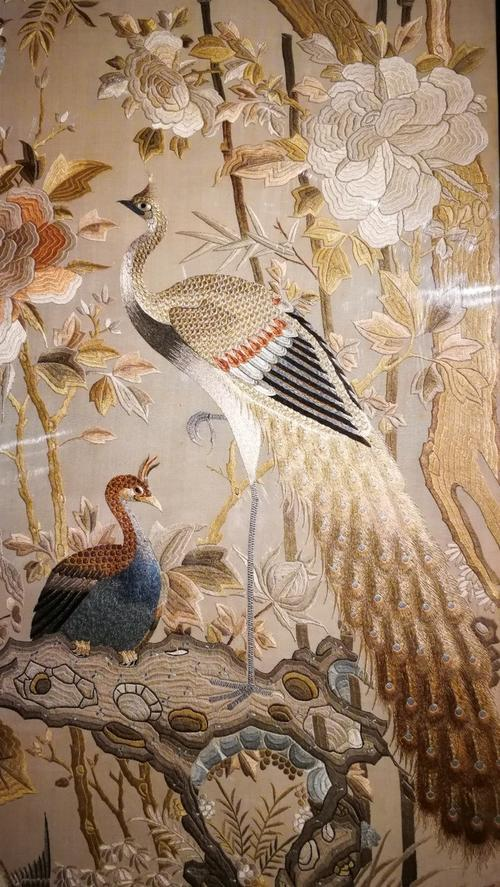flower: (295, 52, 491, 245), (1, 183, 92, 369), (96, 27, 213, 135)
peacock: (111, 171, 500, 887), (26, 450, 169, 664)
